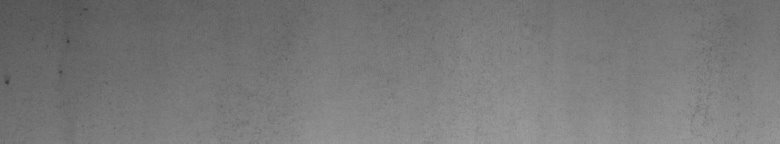ib: (4, 8, 88, 88)
